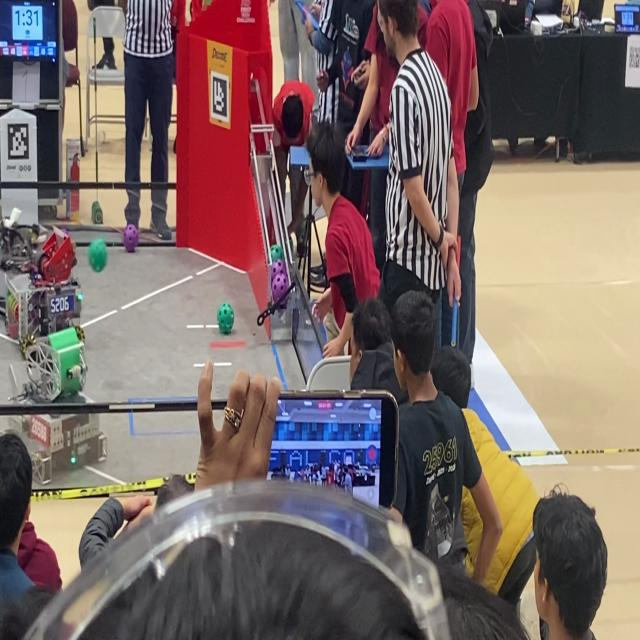artifact_green: (88, 239, 107, 272), (218, 303, 234, 334), (92, 201, 104, 225), (271, 245, 284, 261), (289, 236, 293, 254)
artifact_purple: (272, 274, 288, 302), (123, 225, 138, 252), (272, 260, 286, 280), (61, 229, 68, 235)
